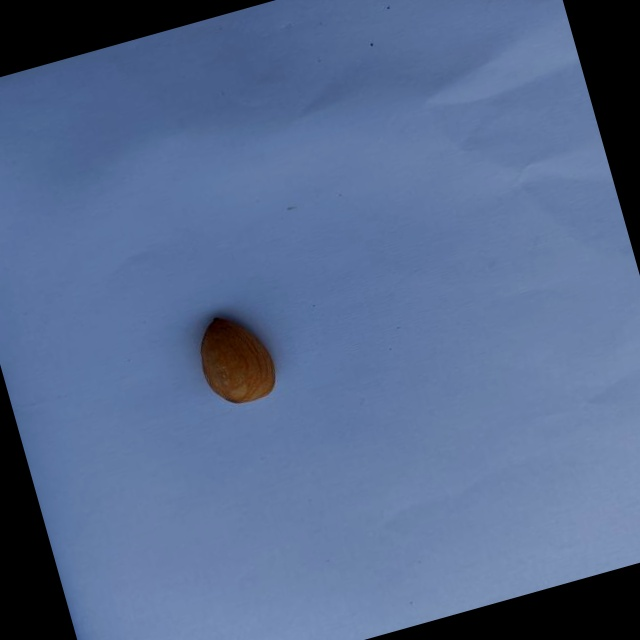grade2: (186, 302, 289, 416)
